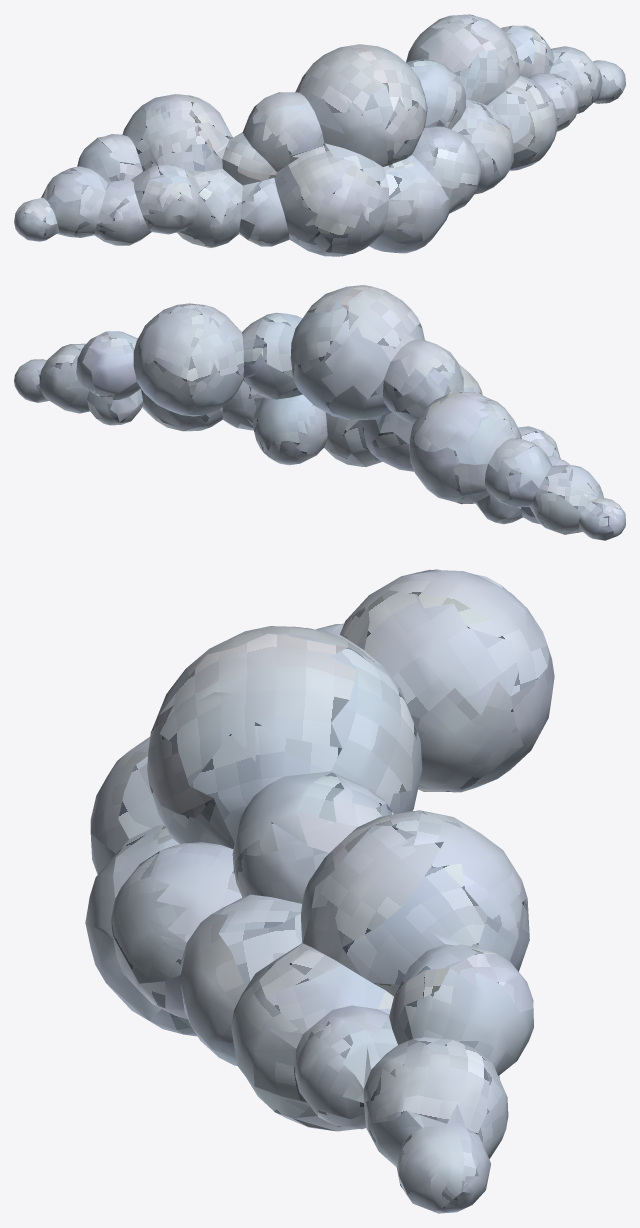
The model's file is cloud-b.glb.
The picture shows the model from 3 angles, top to bottom: view 1: azimuth 30°, elevation 25°; view 2: azimuth 150°, elevation 25°; view 3: azimuth 270°, elevation 25°; orthographic projection. The views are drawn at different scales.
Parts seen in each view (by area): view 1: output_unwrapped; view 2: output_unwrapped; view 3: output_unwrapped.
Boxes of the visible parts, bbox=[...] form: output_unwrapped: bbox=[14, 14, 625, 256]; output_unwrapped: bbox=[14, 285, 625, 540]; output_unwrapped: bbox=[85, 569, 554, 1213].
Size of the model in its own units: 1.9 by 0.5635 by 0.6375.
1 material, 1 textured.
